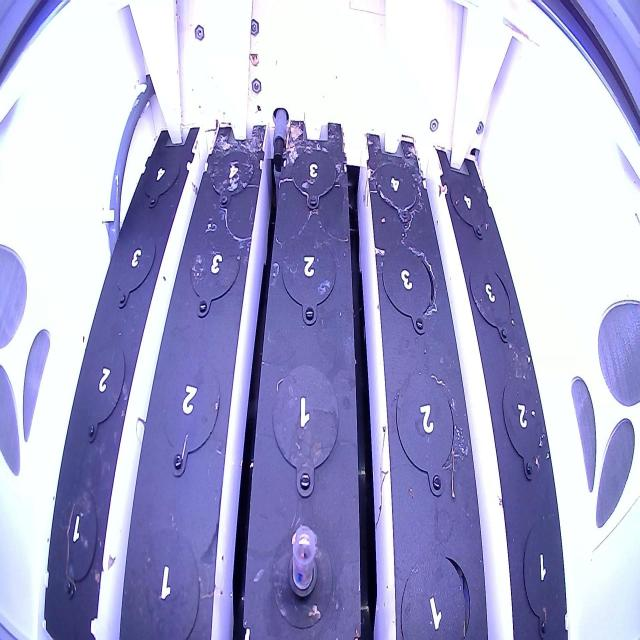empty_pod: (268, 358, 343, 500), (391, 361, 460, 499), (156, 349, 223, 484), (130, 524, 203, 639), (396, 544, 476, 640), (277, 223, 341, 329), (378, 235, 439, 336), (52, 476, 103, 596), (185, 221, 242, 325), (76, 334, 128, 446), (518, 517, 564, 639), (499, 368, 544, 490), (467, 257, 519, 346), (111, 223, 159, 311), (372, 152, 421, 227), (290, 141, 339, 214), (209, 143, 256, 215), (447, 173, 491, 243), (141, 144, 181, 213)
